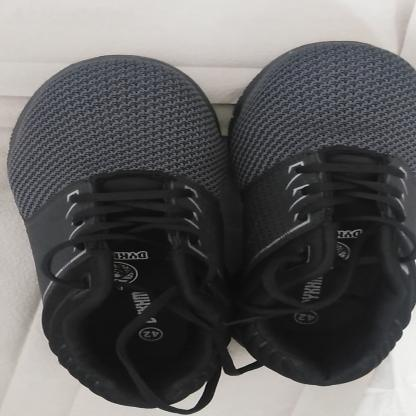safety-shoe: (5, 38, 416, 416)
